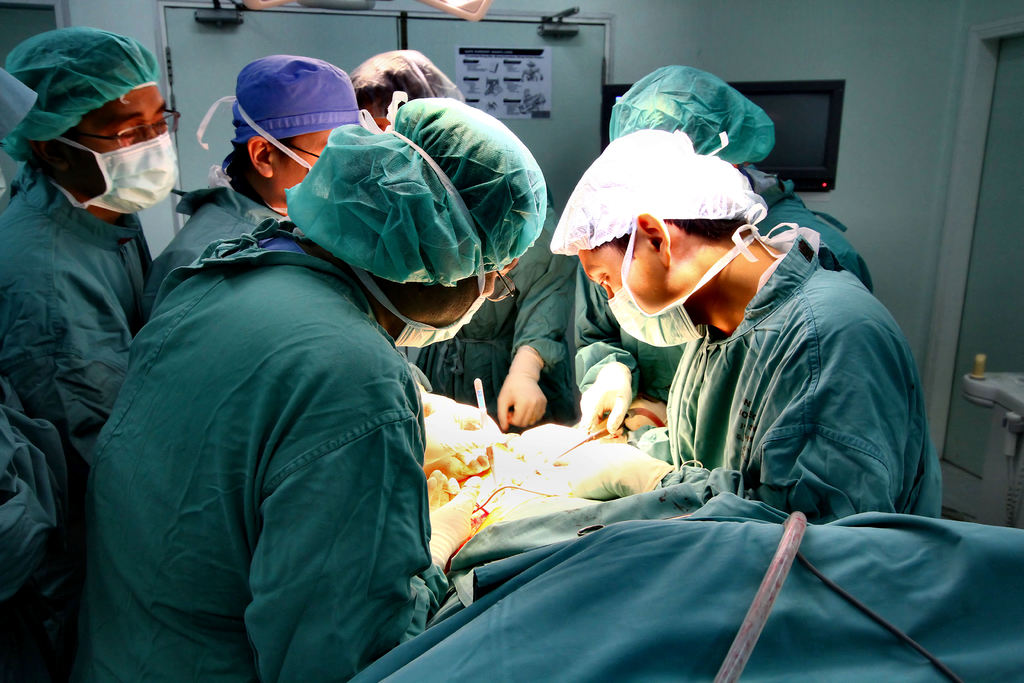Person: (0, 18, 948, 683)
